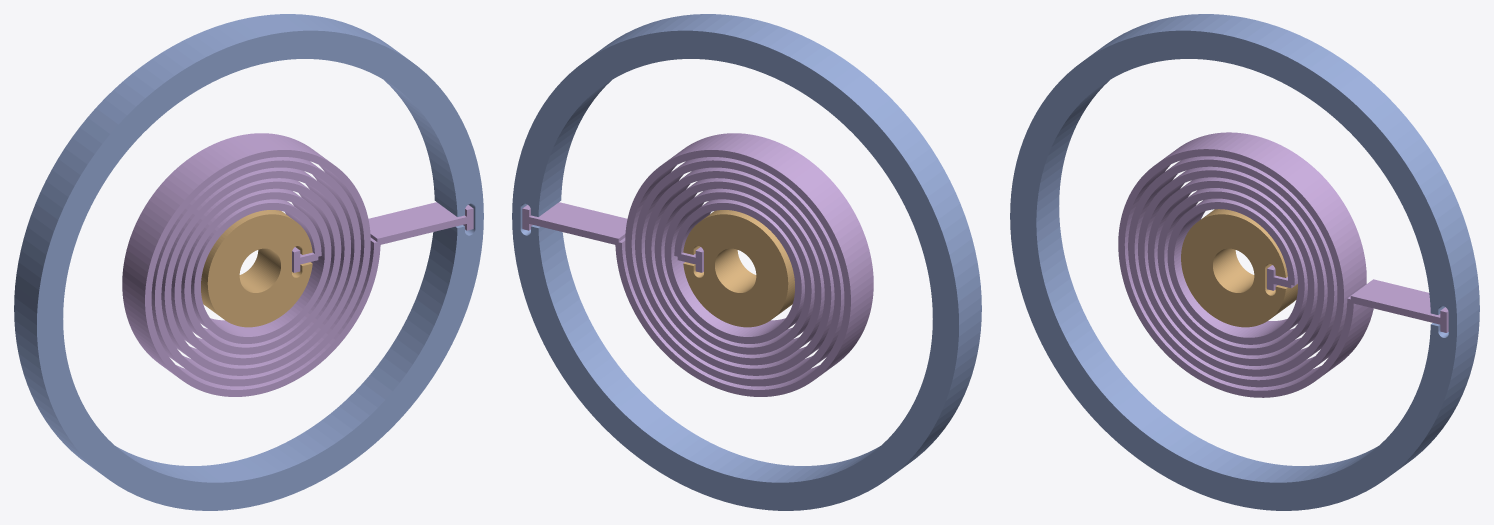
Rendered from spiral_power_spring_demo.glb.
The picture shows the model from 3 angles, left to right: view 1: azimuth 30°, elevation 25°; view 2: azimuth 150°, elevation 25°; view 3: azimuth 330°, elevation 25°; orthographic projection.
Visible parts, largest first — view 1: mainspring_barrel, mainspring_strip, mainspring_arbor; view 2: mainspring_barrel, mainspring_strip, mainspring_arbor; view 3: mainspring_barrel, mainspring_strip, mainspring_arbor.
Boxes of the visible parts, left/top/right/bottom form: mainspring_barrel: left=14, top=14, right=483, bottom=510; mainspring_strip: left=122, top=133, right=473, bottom=396; mainspring_arbor: left=201, top=210, right=312, bottom=327; mainspring_barrel: left=512, top=14, right=981, bottom=510; mainspring_strip: left=522, top=133, right=873, bottom=396; mainspring_arbor: left=683, top=210, right=794, bottom=327; mainspring_barrel: left=1010, top=14, right=1479, bottom=510; mainspring_strip: left=1118, top=132, right=1448, bottom=397; mainspring_arbor: left=1181, top=209, right=1297, bottom=327.
Size of the model in its own units: 68 by 68 by 6.
